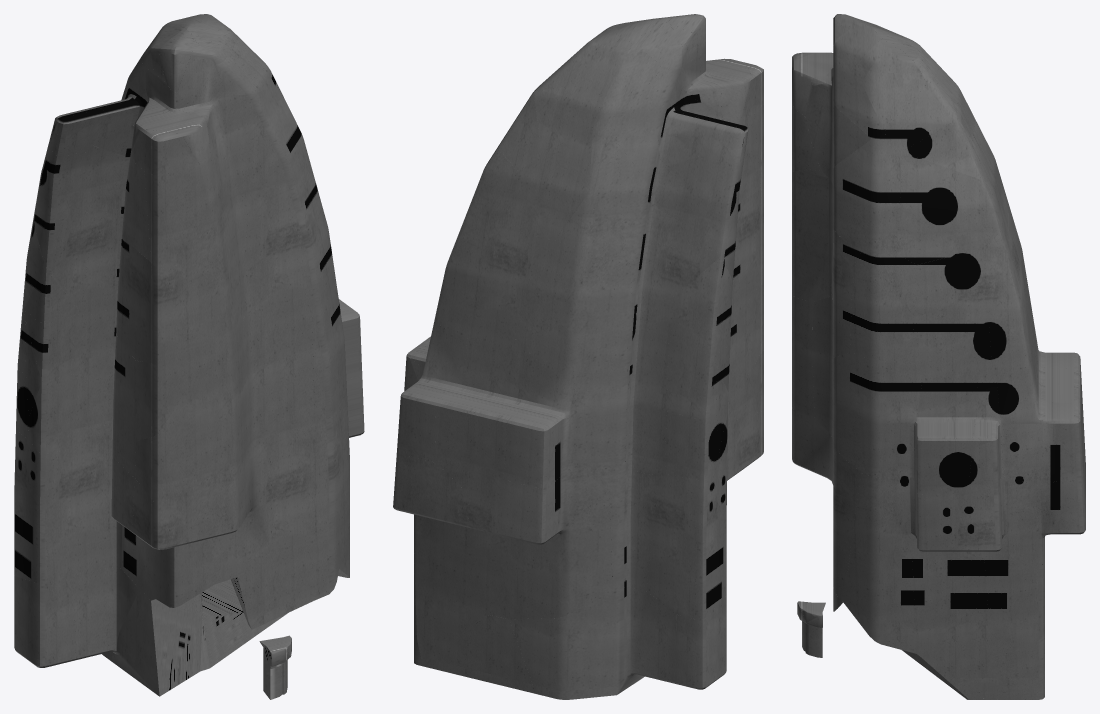
The model's file is AndyGebouw1_Broken.fbx.
The picture shows the model from 3 angles, left to right: view 1: azimuth 30°, elevation 25°; view 2: azimuth 150°, elevation 25°; view 3: azimuth 270°, elevation 25°; orthographic projection. The views are drawn at different scales.
Visible parts, largest first — view 1: Cyber Skyscraper.015_cell.057, Cyber Skyscraper.015_cell.063, Cyber Skyscraper.015_cell.003, Cyber Skyscraper.015_cell.078, Cyber Skyscraper.015_cell.038, Cyber Skyscraper.015_cell.018, Cyber Skyscraper.015_cell.012, Cyber Skyscraper.015_cell.076, Cyber Skyscraper.015_cell.093, Cyber Skyscraper.015_cell.036, Cyber Skyscraper.015_cell.039, Cyber Skyscraper.015_cell.054 (+41 smaller); view 2: Cyber Skyscraper.015_cell.052, Cyber Skyscraper.015_cell.025, Cyber Skyscraper.015_cell.069, Cyber Skyscraper.015_cell.092, Cyber Skyscraper.015_cell.008, Cyber Skyscraper.015_cell.038, Cyber Skyscraper.015_cell.081, Cyber Skyscraper.015_cell.066, Cyber Skyscraper.015_cell.050, Cyber Skyscraper.015_cell.043, Cyber Skyscraper.015_cell.098, Cyber Skyscraper.015_cell.089 (+40 smaller); view 3: Cyber Skyscraper.015_cell.032, Cyber Skyscraper.015_cell.044, Cyber Skyscraper.015_cell.027, Cyber Skyscraper.015_cell.023, Cyber Skyscraper.015_cell.015, Cyber Skyscraper.015_cell.001, Cyber Skyscraper.015_cell.030, Cyber Skyscraper.015_cell.056, Cyber Skyscraper.015_cell.094, Cyber Skyscraper.015_cell.091, Cyber Skyscraper.015_cell.078, Cyber Skyscraper.015_cell.081 (+29 smaller).
Part boxes in pixels (box(x1,y1,x2,y2)): Cyber Skyscraper.015_cell.057: box(270, 409, 343, 568); Cyber Skyscraper.015_cell.063: box(246, 196, 327, 329); Cyber Skyscraper.015_cell.003: box(239, 311, 314, 459); Cyber Skyscraper.015_cell.078: box(179, 194, 247, 365); Cyber Skyscraper.015_cell.038: box(14, 429, 72, 582); Cyber Skyscraper.015_cell.018: box(62, 424, 124, 575); Cyber Skyscraper.015_cell.012: box(132, 478, 214, 607); Cyber Skyscraper.015_cell.076: box(107, 589, 202, 696); Cyber Skyscraper.015_cell.093: box(201, 458, 271, 584); Cyber Skyscraper.015_cell.036: box(116, 236, 179, 364); Cyber Skyscraper.015_cell.039: box(144, 161, 222, 268); Cyber Skyscraper.015_cell.054: box(207, 84, 278, 194); Cyber Skyscraper.015_cell.052: box(468, 473, 612, 619); Cyber Skyscraper.015_cell.025: box(509, 587, 676, 699); Cyber Skyscraper.015_cell.069: box(505, 232, 631, 366); Cyber Skyscraper.015_cell.092: box(393, 453, 488, 662); Cyber Skyscraper.015_cell.008: box(435, 329, 536, 494); Cyber Skyscraper.015_cell.038: box(647, 470, 727, 619); Cyber Skyscraper.015_cell.081: box(434, 194, 517, 338); Cyber Skyscraper.015_cell.066: box(503, 359, 577, 488); Cyber Skyscraper.015_cell.050: box(573, 339, 627, 490); Cyber Skyscraper.015_cell.043: box(507, 125, 592, 240); Cyber Skyscraper.015_cell.098: box(625, 334, 668, 478); Cyber Skyscraper.015_cell.089: box(420, 615, 535, 693); Cyber Skyscraper.015_cell.032: box(983, 476, 1044, 699); Cyber Skyscraper.015_cell.044: box(844, 473, 916, 653); Cyber Skyscraper.015_cell.027: box(833, 352, 923, 478); Cyber Skyscraper.015_cell.023: box(895, 153, 1003, 264); Cyber Skyscraper.015_cell.015: box(912, 248, 992, 371); Cyber Skyscraper.015_cell.001: box(921, 551, 995, 698); Cyber Skyscraper.015_cell.030: box(913, 370, 978, 494); Cyber Skyscraper.015_cell.056: box(833, 134, 904, 253); Cyber Skyscraper.015_cell.094: box(850, 253, 916, 362); Cyber Skyscraper.015_cell.091: box(996, 355, 1056, 486); Cyber Skyscraper.015_cell.078: box(792, 169, 833, 302); Cyber Skyscraper.015_cell.081: box(983, 220, 1031, 368).
Bounding box in the file's own units: 3292 × 6500 × 2887.
